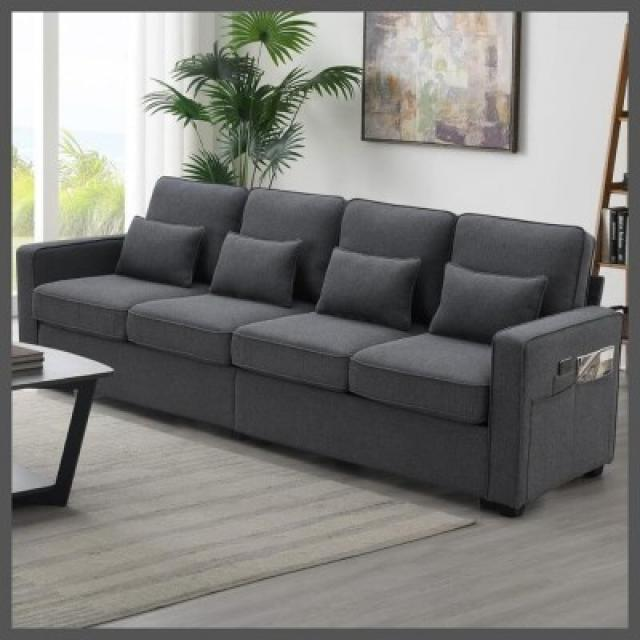sofa: (15, 173, 622, 517)
